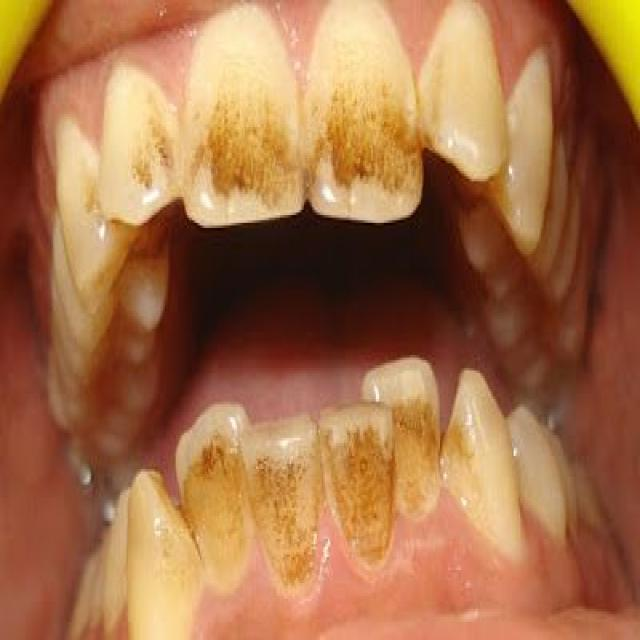LLCI_sdecay: (322, 403, 395, 572)
LLC_mdecay: (441, 354, 520, 567)
LLLI_sdecay: (395, 357, 440, 524)
LRCI_sdecay: (241, 419, 319, 597)
LRC_mdecay: (128, 469, 206, 640)
LRLI_sdecay: (175, 405, 251, 597)
ULCI_sdecay: (308, 1, 422, 223)
ULC_healthy: (508, 44, 550, 254)
ULLI_mdecay: (419, 1, 506, 187)
URCI_sdecay: (182, 3, 308, 230)
URC_mdecay: (53, 115, 115, 315)
URLI_sdecay: (98, 55, 182, 228)
